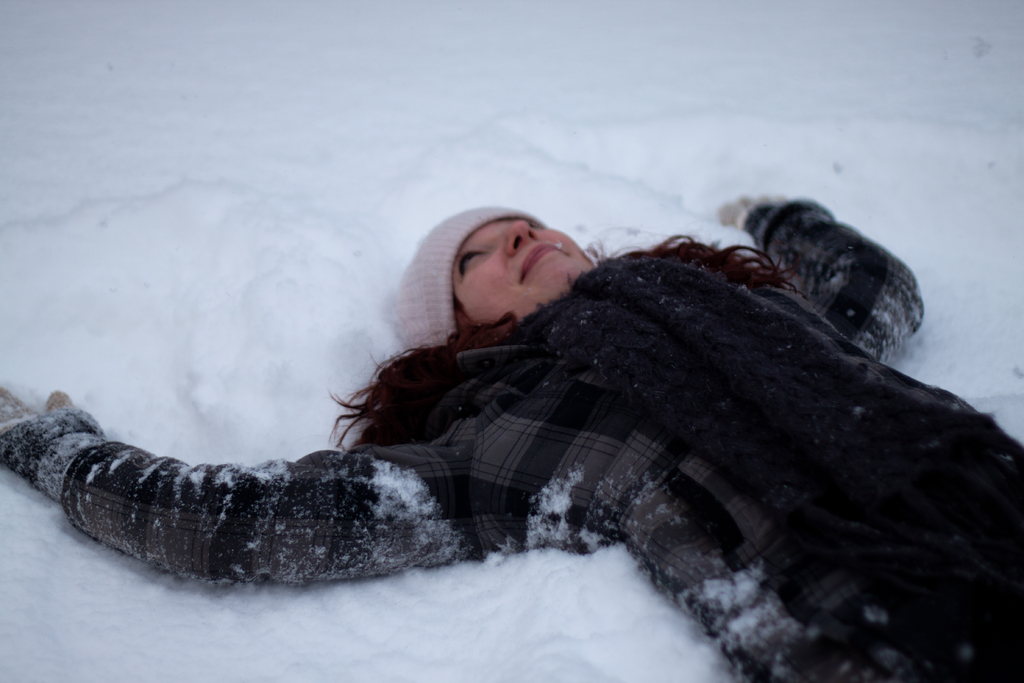face: (447, 216, 595, 316)
